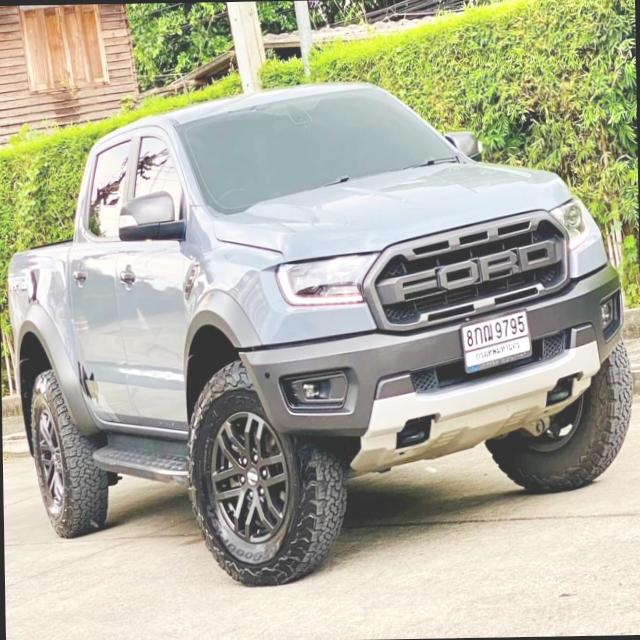license_plate: (462, 306, 536, 376)
